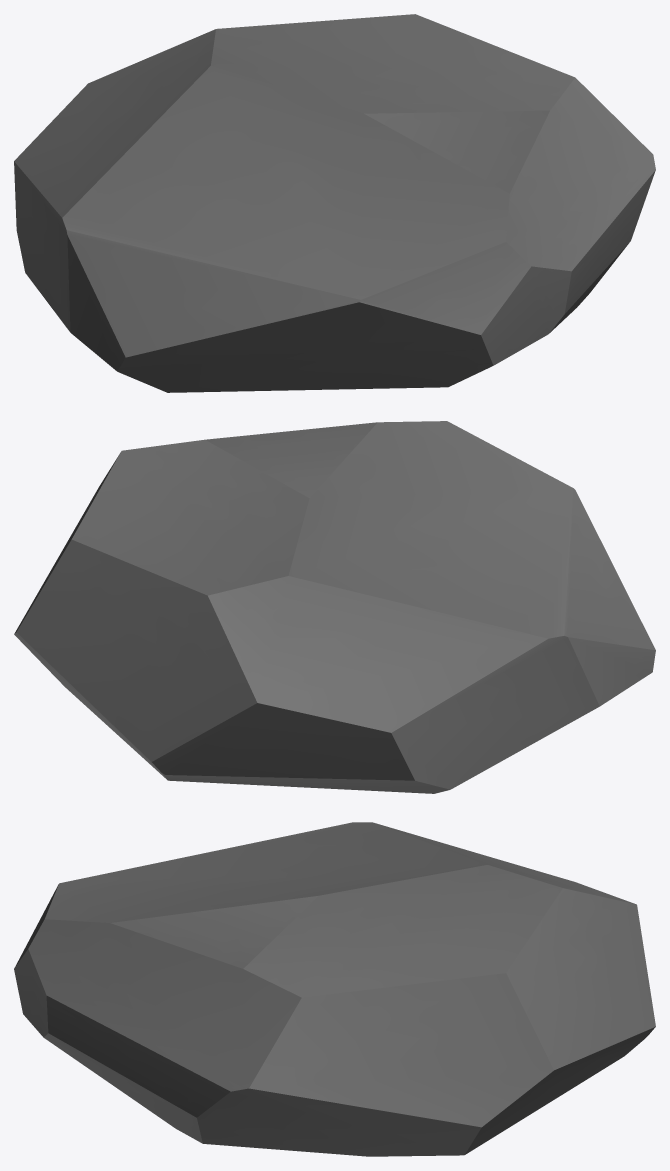
File: pack02_rocks_07.fbx
3 renders of one model, top to bottom at view 1: azimuth 30°, elevation 25°; view 2: azimuth 150°, elevation 25°; view 3: azimuth 270°, elevation 25°, orthographic. The views are drawn at different scales.
Visible parts, largest first — view 1: Rock Type2 03 mesh; view 2: Rock Type2 03 mesh; view 3: Rock Type2 03 mesh.
Boxes of the visible parts, x1,y1,x2,y2 form: Rock Type2 03 mesh: (14, 14, 655, 392); Rock Type2 03 mesh: (14, 421, 655, 793); Rock Type2 03 mesh: (14, 822, 655, 1156).
Size of the model in its own units: 134 by 43.82 by 139.
Materials: 1 (1 with a texture image).
